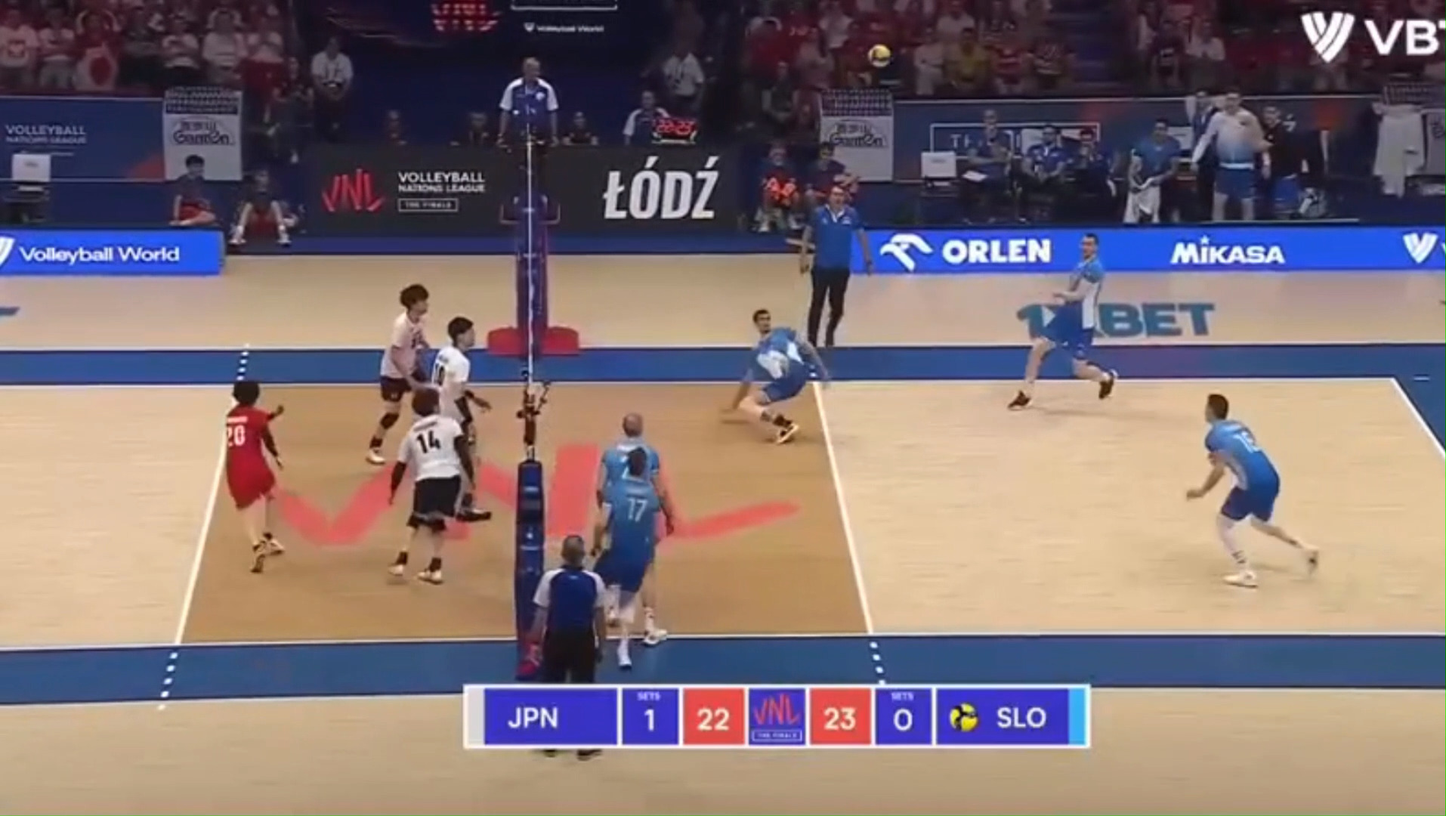ball: (868, 45, 891, 67)
player: (1187, 393, 1318, 588), (1009, 233, 1117, 410), (596, 448, 662, 669), (729, 308, 827, 444), (597, 413, 675, 534)
player 1: (389, 385, 474, 584), (432, 317, 490, 520), (224, 378, 284, 573), (366, 283, 429, 465)
referee: (800, 184, 872, 348), (531, 535, 606, 682), (497, 57, 558, 232)
